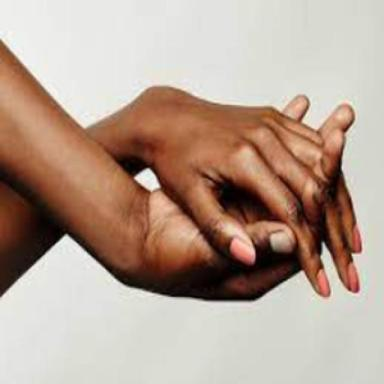normal skin: (0, 41, 361, 299)
